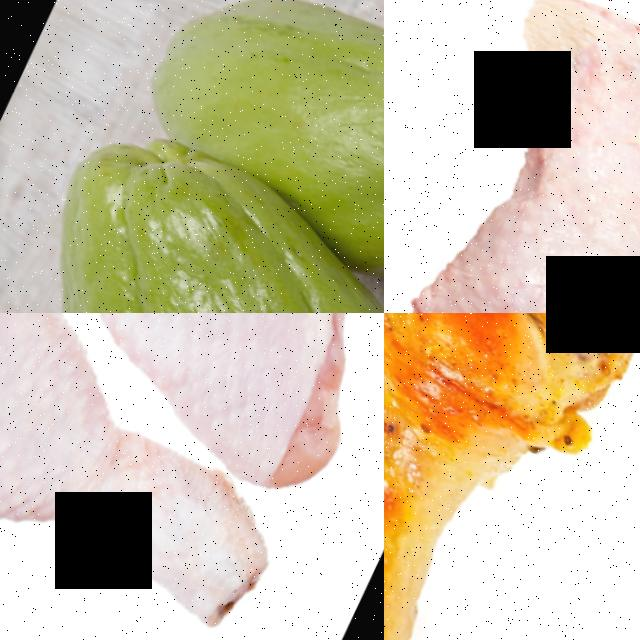chayote: (0, 79, 384, 313), (130, 0, 384, 313)
chicken thigh: (0, 313, 315, 640), (384, 313, 640, 640), (384, 0, 640, 313), (0, 313, 384, 505)
